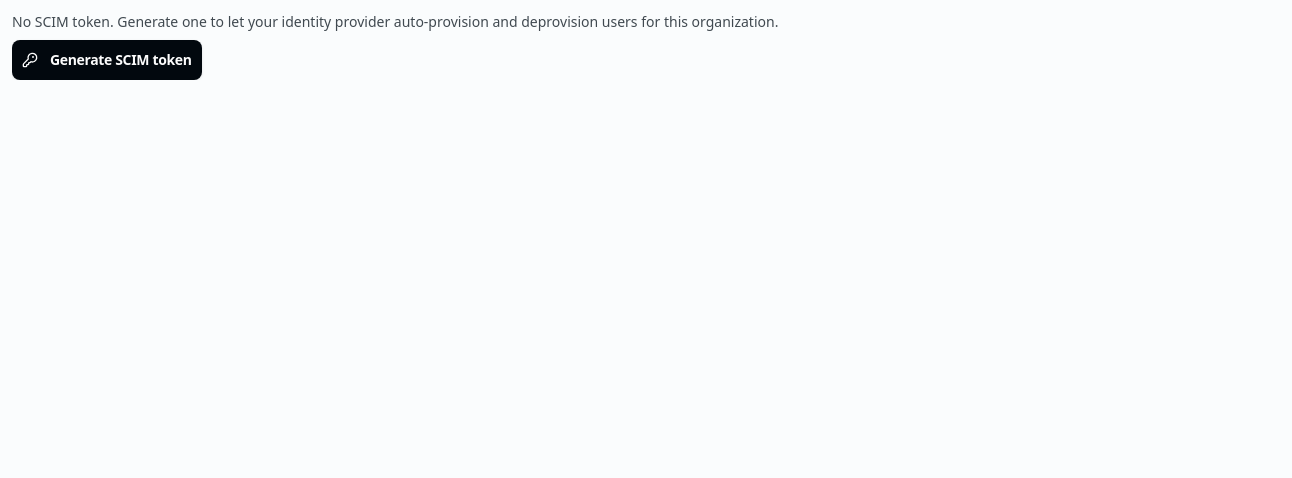
Scenario: ScimProvisioningSection › shows Generate when no token, then reveals the plaintext exactly once on issue
The image size is (1292, 478).
Click the button "Generate SCIM token" at coordinates (107, 60), box x1=12 y1=40 x2=202 y2=80
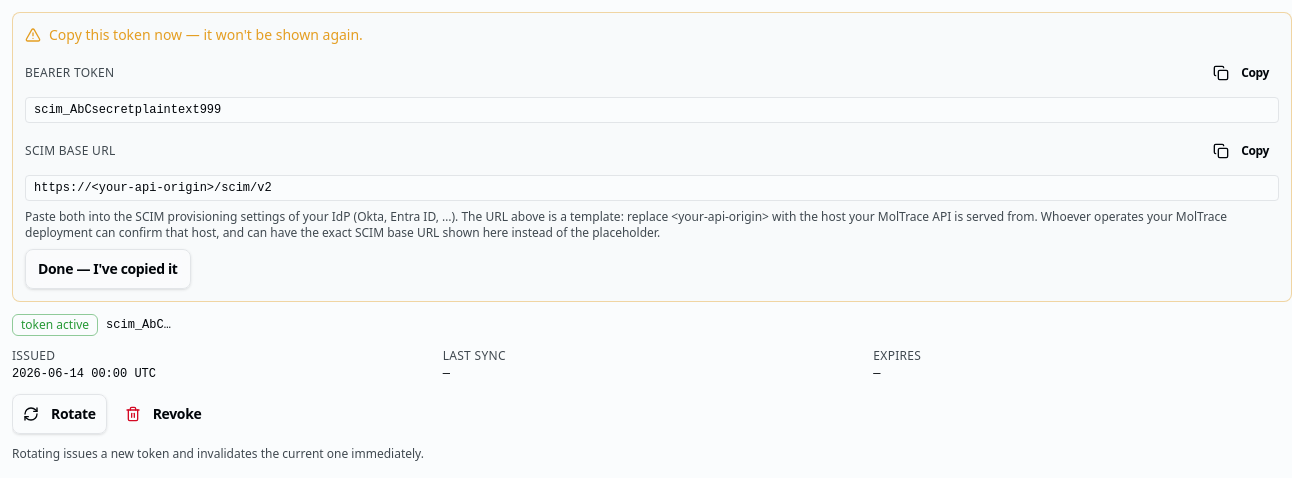
Expected: the text "scim_AbCsecretplaintext999" is shown, x1=25 y1=97 x2=1279 y2=123
Expected: the text "Copy this token now — it won't be shown again." is shown, x1=25 y1=25 x2=363 y2=44
Expected: the text "token active" is shown, x1=12 y1=314 x2=98 y2=336
